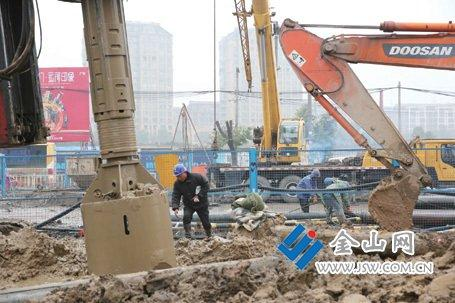boots: (180, 221, 192, 239), (204, 227, 213, 240)
gloves: (172, 207, 180, 217), (191, 195, 199, 203)
hard-hat: (172, 163, 186, 176)
person: (170, 164, 213, 240)
ppe-suit: (170, 170, 212, 236)
